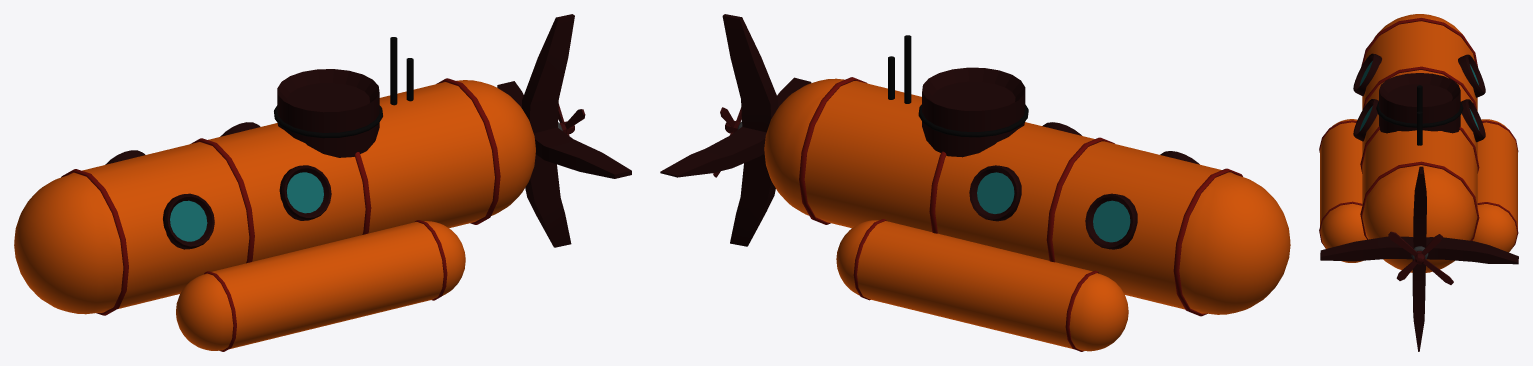
File: Red Zir Daryayi.fbx
3 views of the same model, side by side, from view 1: azimuth 30°, elevation 25°; view 2: azimuth 150°, elevation 25°; view 3: azimuth 270°, elevation 25° (orthographic). The views are drawn at different scales.
Parts seen in each view (by area): view 1: polySurface27, polySurface44, polySurface42, polySurface30, polySurface29, polySurface26, polySurface45, polySurface43, polySurface37, polySurface41, polySurface25, polySurface39; view 2: polySurface27, polySurface28, polySurface42, polySurface30, polySurface29, polySurface47, polySurface46, polySurface43, polySurface37, polySurface41, polySurface25, polySurface39; view 3: polySurface27, polySurface44, polySurface28, polySurface42, polySurface29, polySurface30, polySurface23, polySurface37, polySurface45, polySurface46, polySurface26, polySurface47 (+4 smaller).
Boxes of the visible parts, x1,y1,x2,y2 form: polySurface27: [14, 80, 535, 314]; polySurface44: [176, 221, 465, 350]; polySurface42: [274, 69, 382, 157]; polySurface30: [522, 14, 574, 247]; polySurface29: [497, 81, 631, 178]; polySurface26: [279, 165, 331, 220]; polySurface45: [163, 193, 214, 249]; polySurface43: [61, 169, 128, 315]; polySurface37: [436, 78, 500, 224]; polySurface41: [191, 138, 254, 263]; polySurface25: [390, 37, 397, 105]; polySurface39: [355, 152, 371, 234]; polySurface27: [764, 78, 1290, 314]; polySurface28: [836, 220, 1128, 351]; polySurface42: [918, 67, 1028, 157]; polySurface30: [722, 14, 778, 246]; polySurface29: [660, 77, 811, 177]; polySurface47: [969, 165, 1021, 221]; polySurface46: [1085, 193, 1137, 249]; polySurface43: [1173, 168, 1242, 316]; polySurface37: [799, 77, 867, 224]; polySurface41: [1046, 137, 1114, 262]; polySurface25: [904, 35, 911, 103]; polySurface39: [929, 151, 946, 233]; polySurface27: [1362, 14, 1477, 272]; polySurface44: [1320, 119, 1366, 262]; polySurface28: [1472, 119, 1517, 252]; polySurface42: [1376, 73, 1463, 133]; polySurface29: [1320, 236, 1518, 264]; polySurface30: [1412, 166, 1426, 351]; polySurface23: [1388, 231, 1453, 284]; polySurface37: [1360, 161, 1479, 240]; polySurface45: [1353, 53, 1381, 96]; polySurface46: [1458, 54, 1485, 97]; polySurface26: [1353, 99, 1378, 141]; polySurface47: [1461, 99, 1485, 142].
Bounding box in the file's own units: 7.59 × 3.25 × 2.99.
